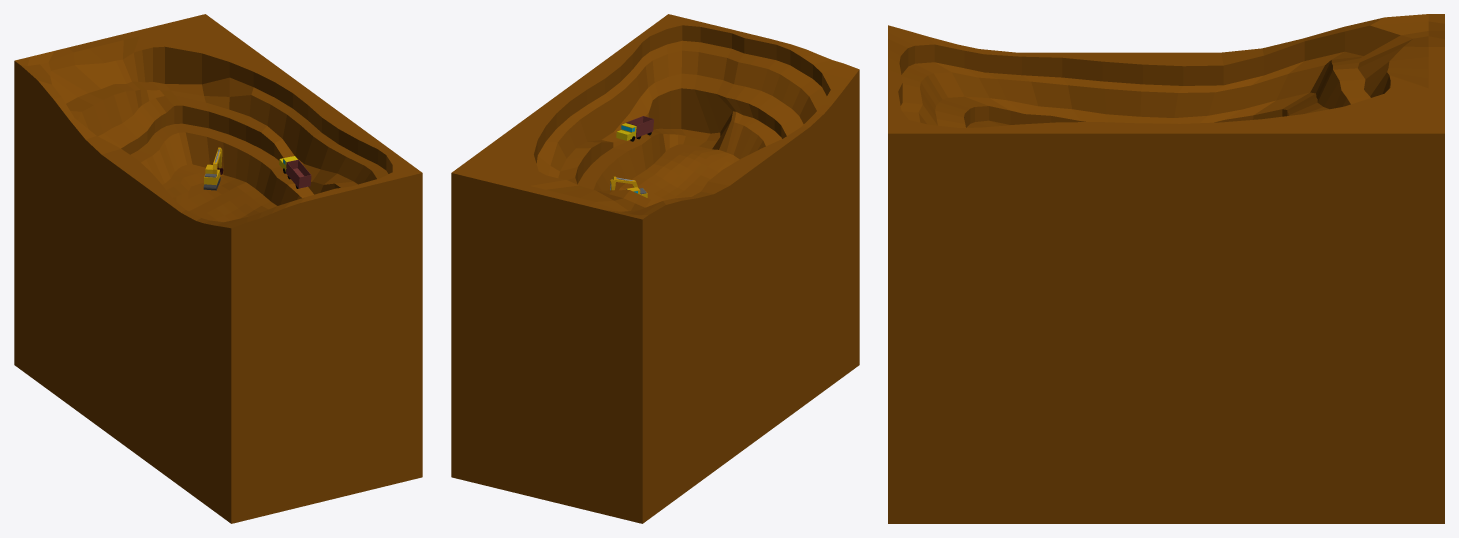
Rendered from cantera.fbx.
3 renders of one model, left to right at view 1: azimuth 30°, elevation 25°; view 2: azimuth 150°, elevation 25°; view 3: azimuth 270°, elevation 25°, orthographic. The views are drawn at different scales.
Parts seen in each view (by area): view 1: Cube, Cube.002; view 2: Cube; view 3: Cube.
Part boxes in pixels (left/top/right/bottom): Cube: left=14, top=14, right=422, bottom=523; Cube.002: left=286, top=159, right=311, bottom=188; Cube: left=451, top=14, right=859, bottom=523; Cube: left=888, top=14, right=1444, bottom=523.
Size of the model in its own units: 367 by 559 by 722.
